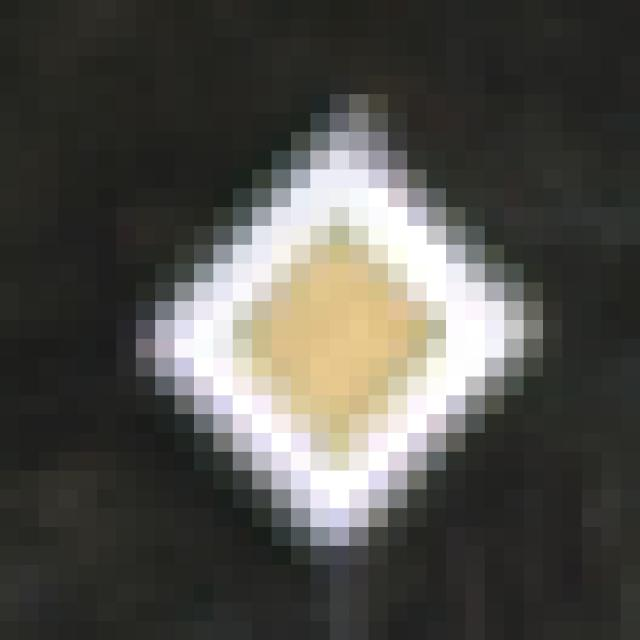Main Road: (98, 95, 544, 547)
